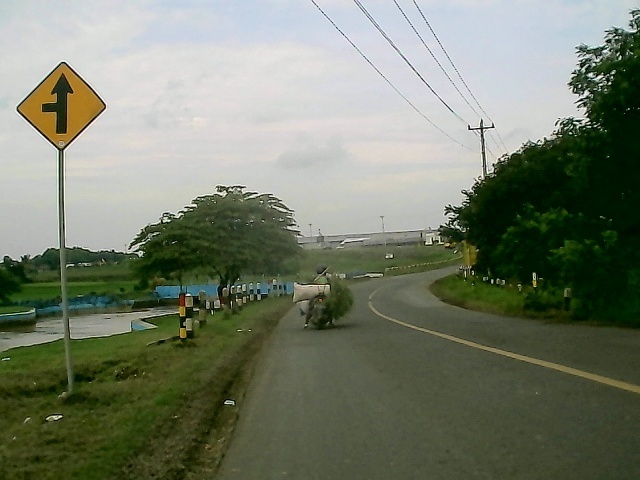Simpang kiri dengan prioritas: (9, 59, 113, 155)
